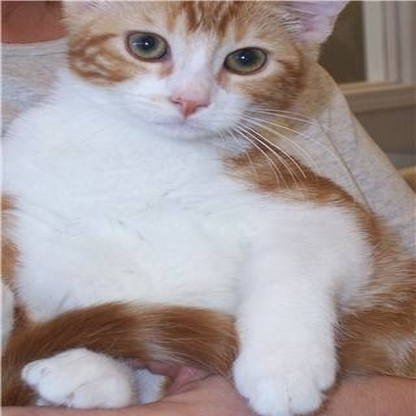cat: (36, 1, 374, 412)
